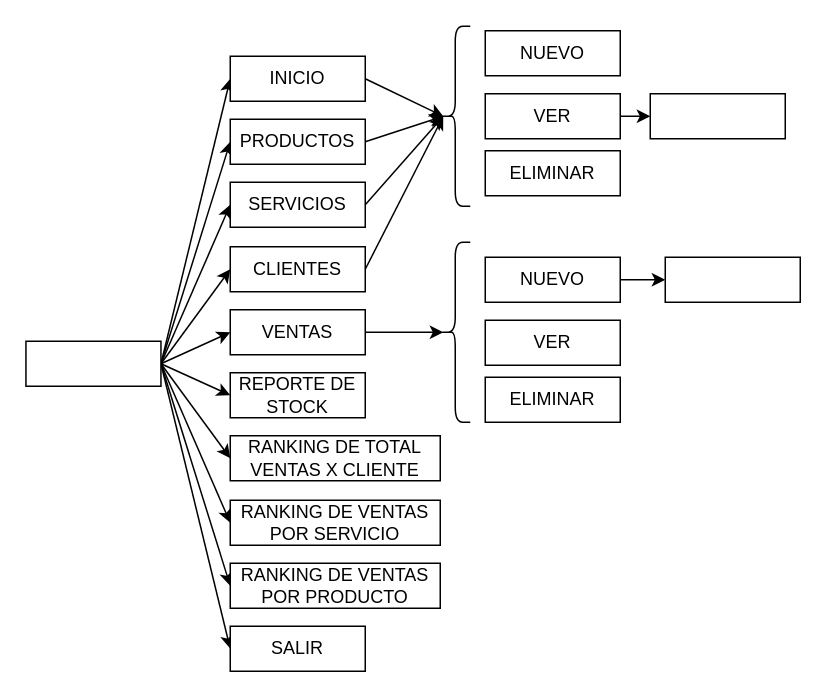
Image size: 828x698. Some labels were removed from this diagram. Here are the shapes that lost their labels. From the top down, the centre of each, then its label:
At (717,115): "EDITAR".
At (732,279): "AGREGAR ITEM".
At (92,363): "LOGIN".
